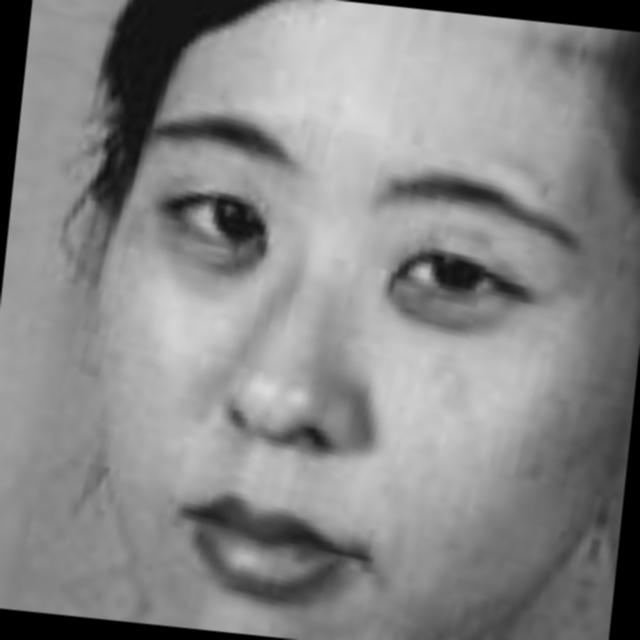disgust: (25, 15, 612, 640)
